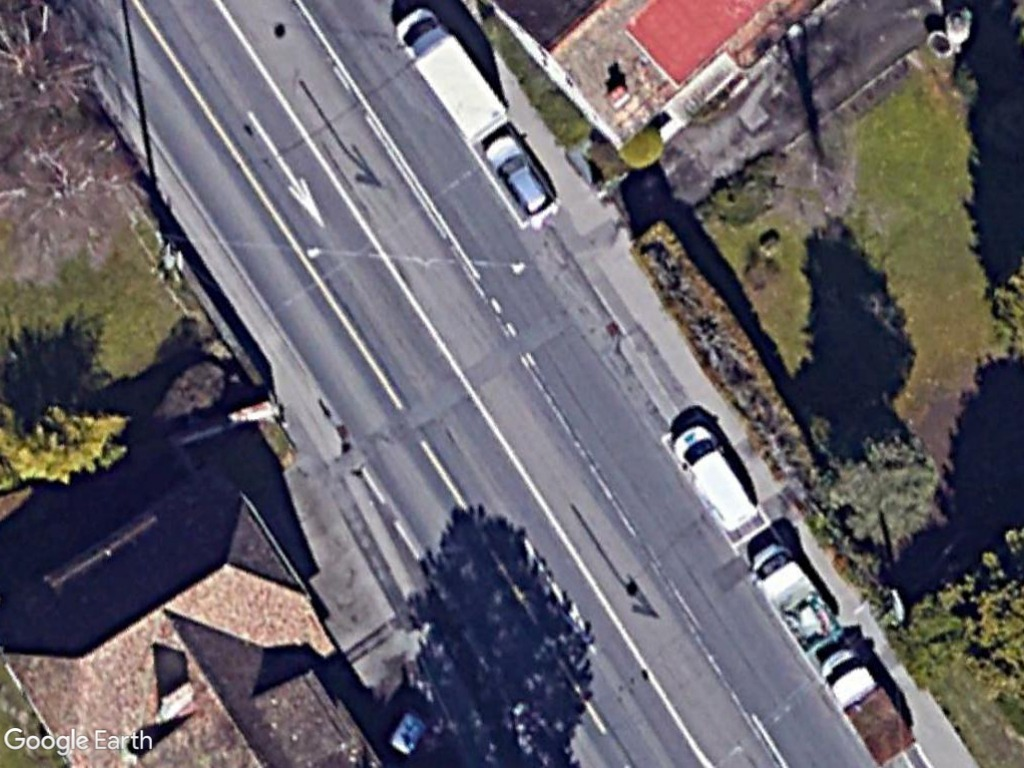car: (483, 131, 556, 219)
truck: (390, 7, 509, 143)
van: (668, 420, 766, 538)
